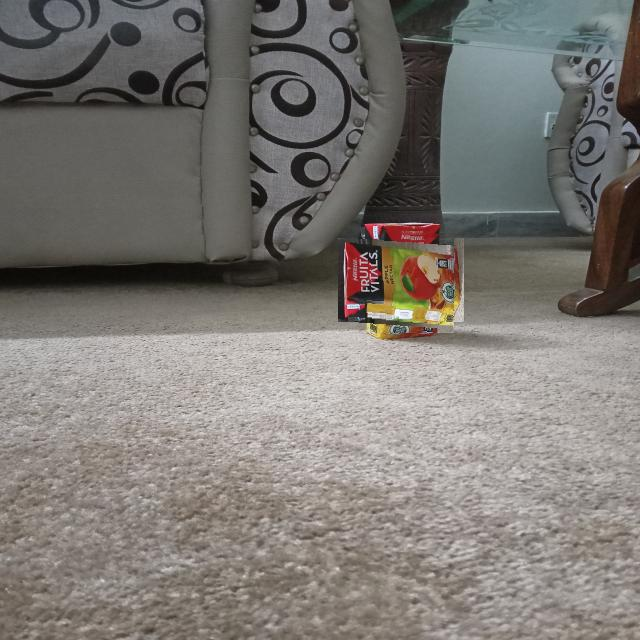Plastic: (349, 227, 454, 333)
